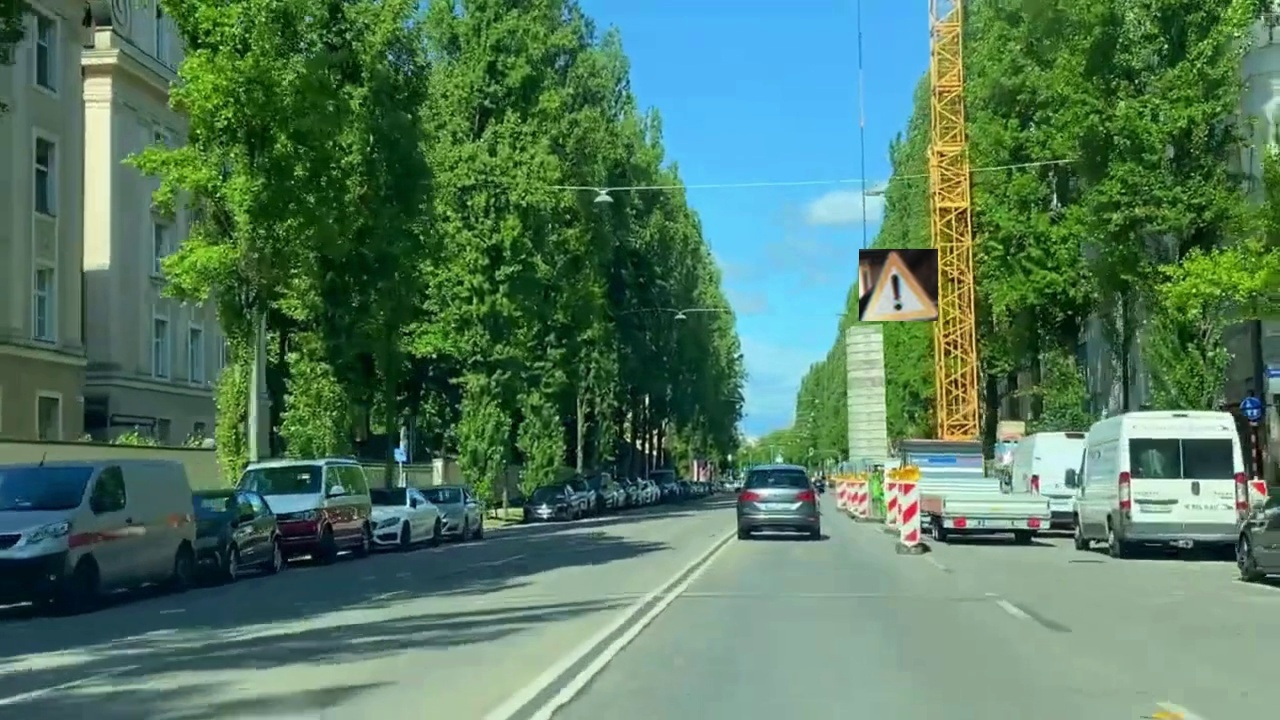Caution: (859, 249, 938, 321)
